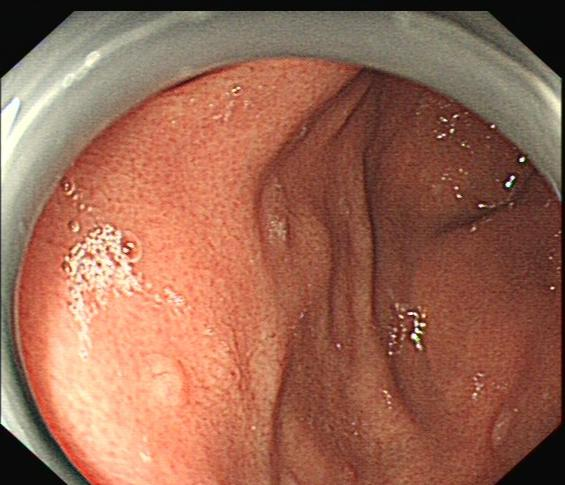Polyp: (136, 345, 191, 413)
